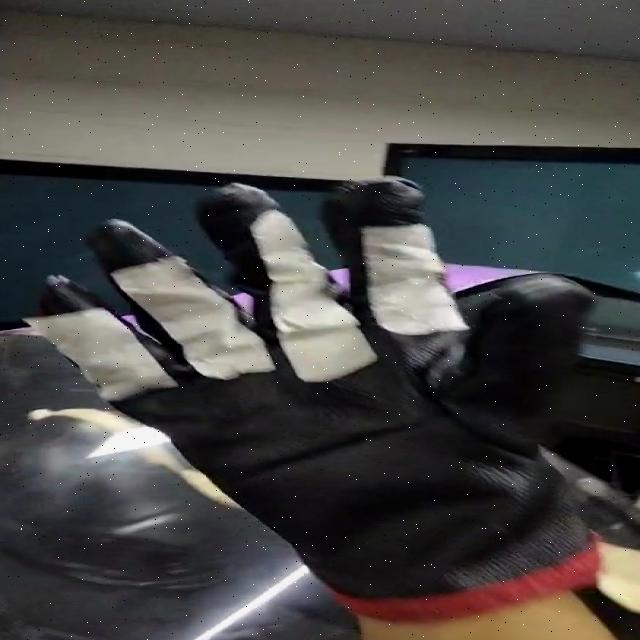Gloves: (35, 174, 620, 600)
